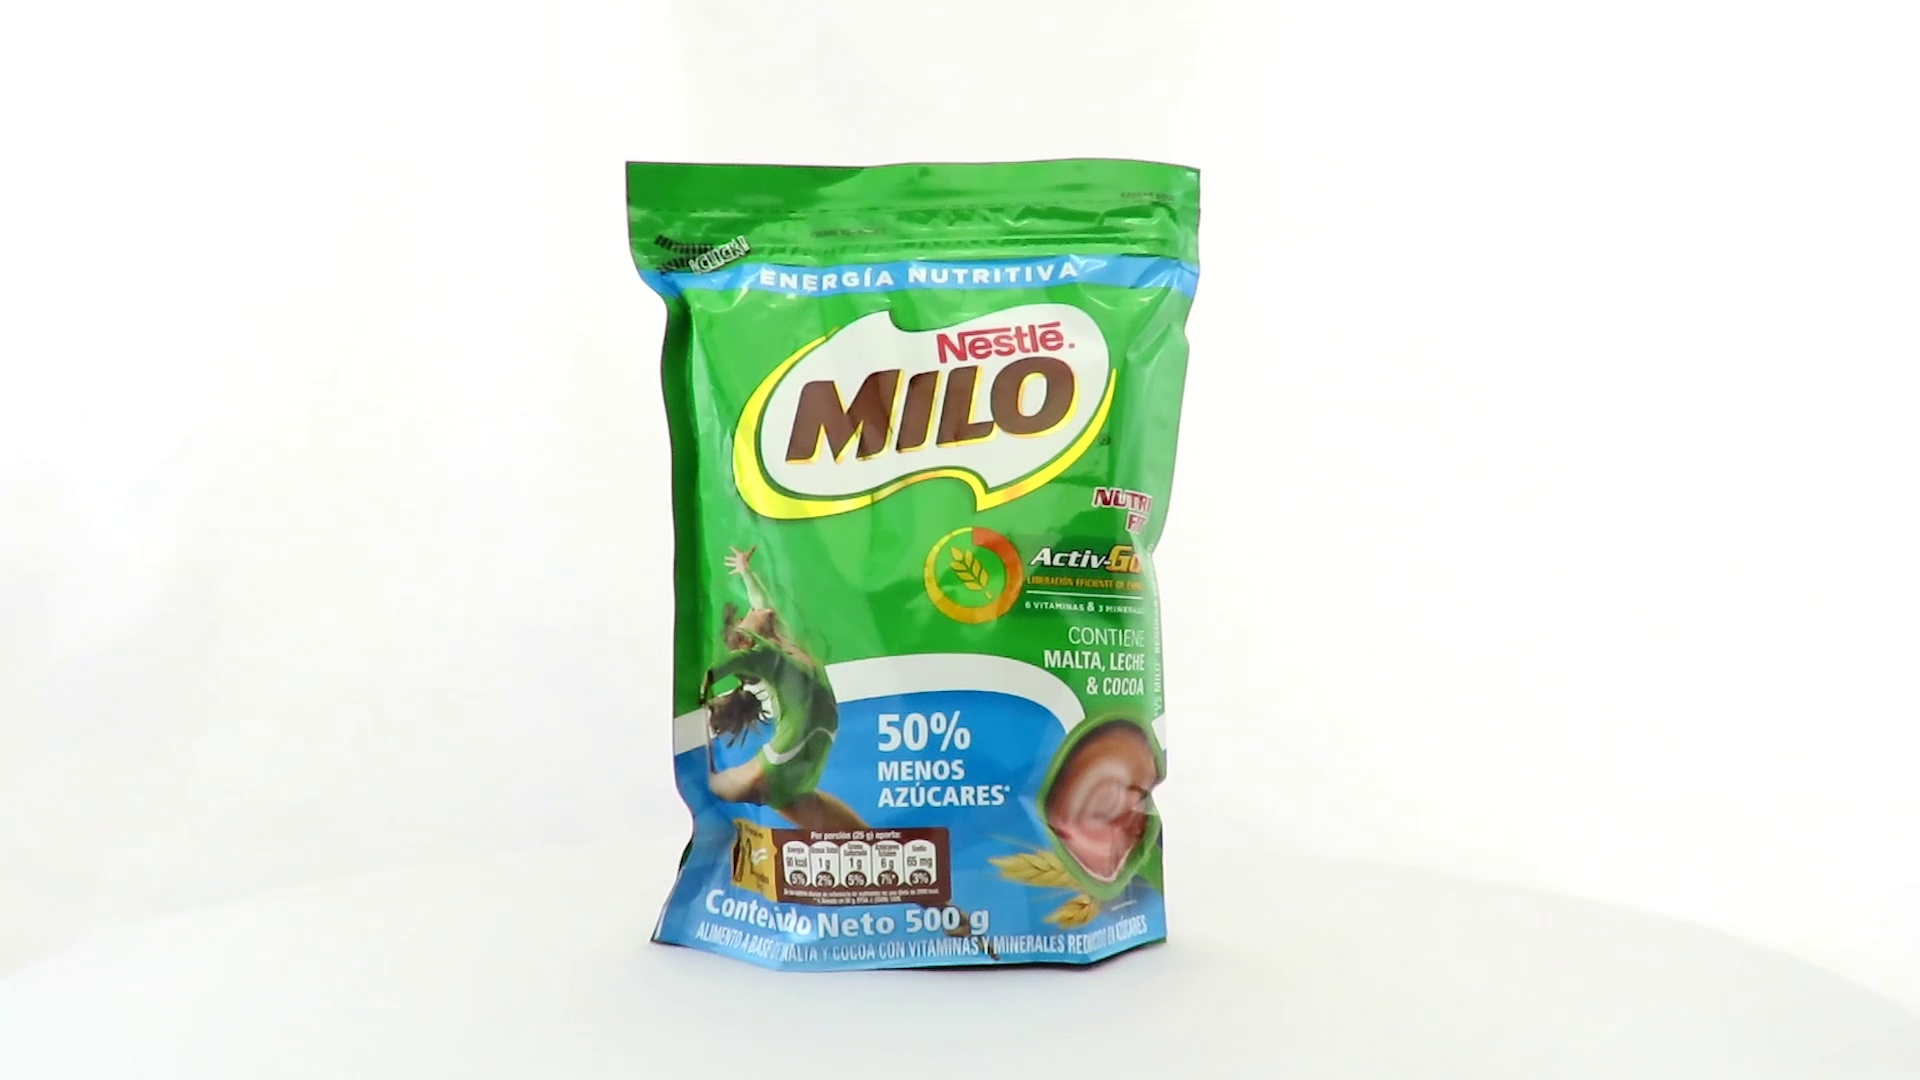COL0170205DYP50000: (620, 152, 1207, 980)
